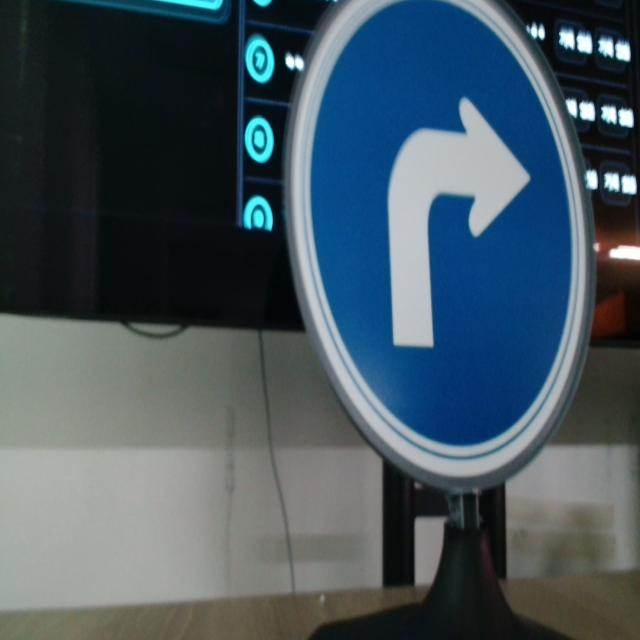right_dierection: (284, 0, 600, 496)
